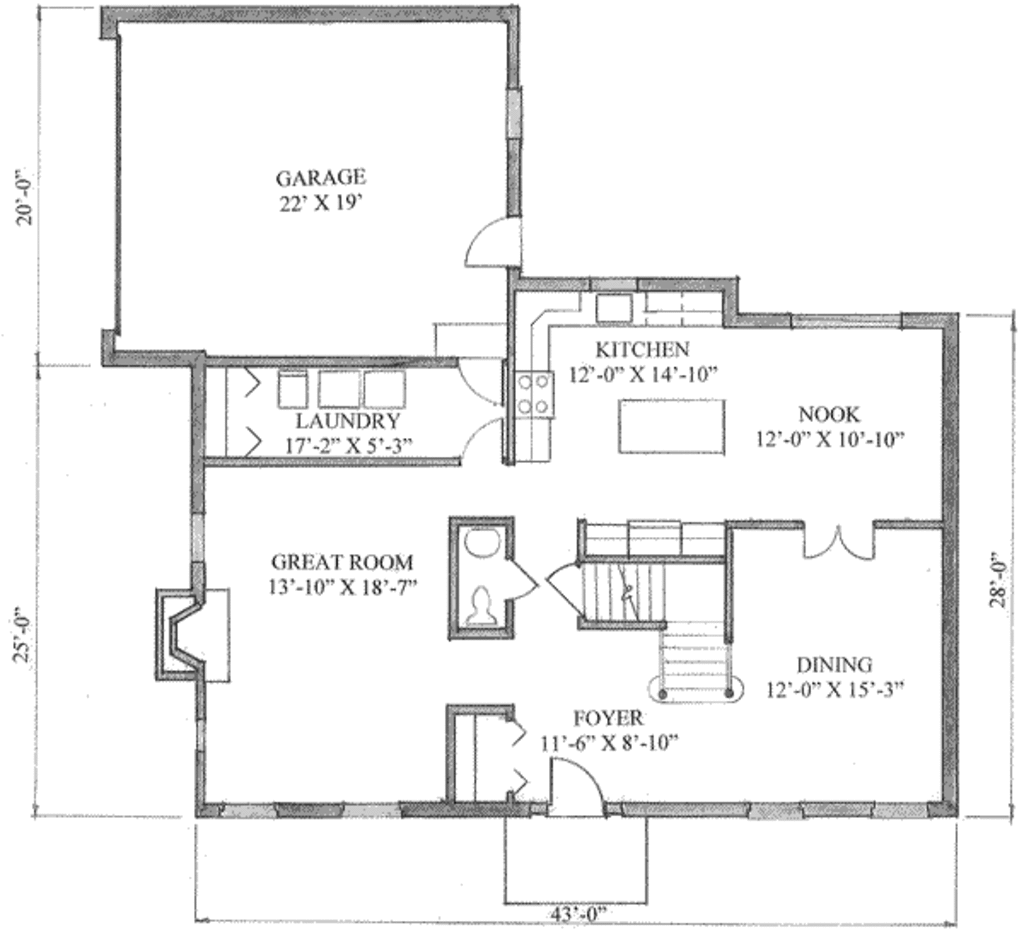door: (788, 498, 888, 569), (450, 212, 531, 272), (544, 754, 608, 817), (459, 412, 514, 469), (457, 354, 514, 405), (543, 553, 582, 621), (505, 553, 543, 602)
large_sink: (460, 581, 508, 631)
sink: (578, 288, 646, 328)
small_sink: (463, 517, 521, 562)
stairs: (550, 546, 747, 708)
window: (869, 794, 940, 825), (215, 798, 279, 830), (749, 795, 814, 821), (328, 804, 410, 821)
